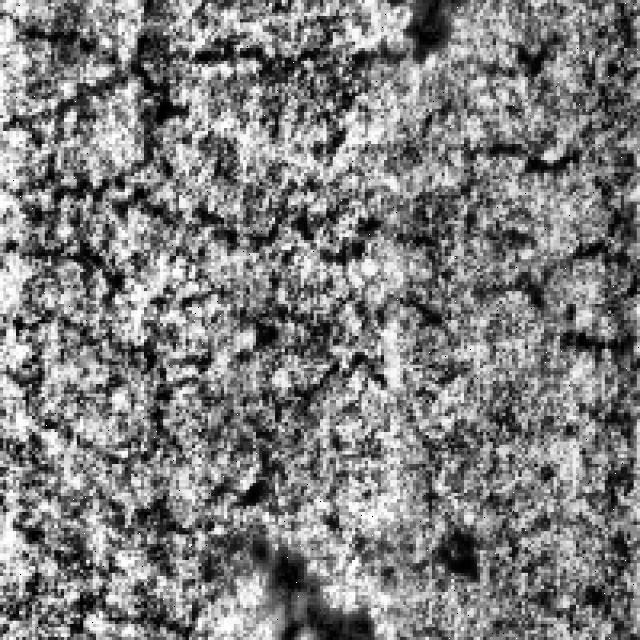Pitted_Surface: (9, 10, 348, 432), (436, 131, 634, 368), (451, 29, 627, 176)
Scratches: (246, 538, 374, 636)
